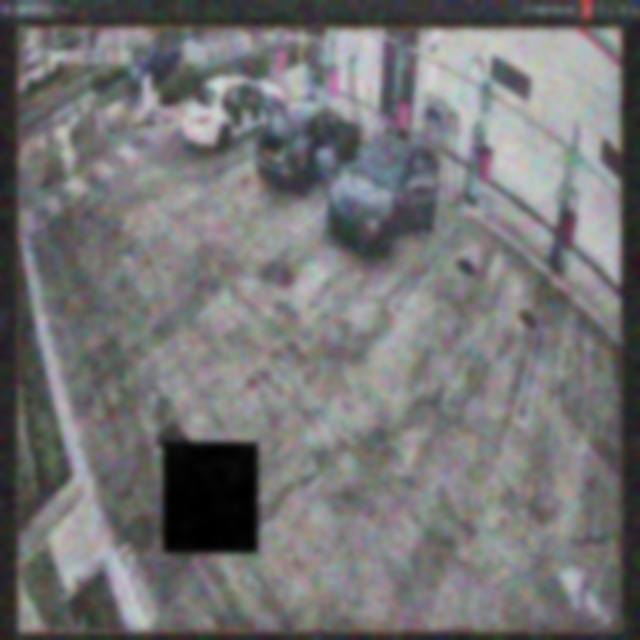Car: (326, 121, 443, 256), (258, 93, 361, 192), (183, 73, 285, 148)
